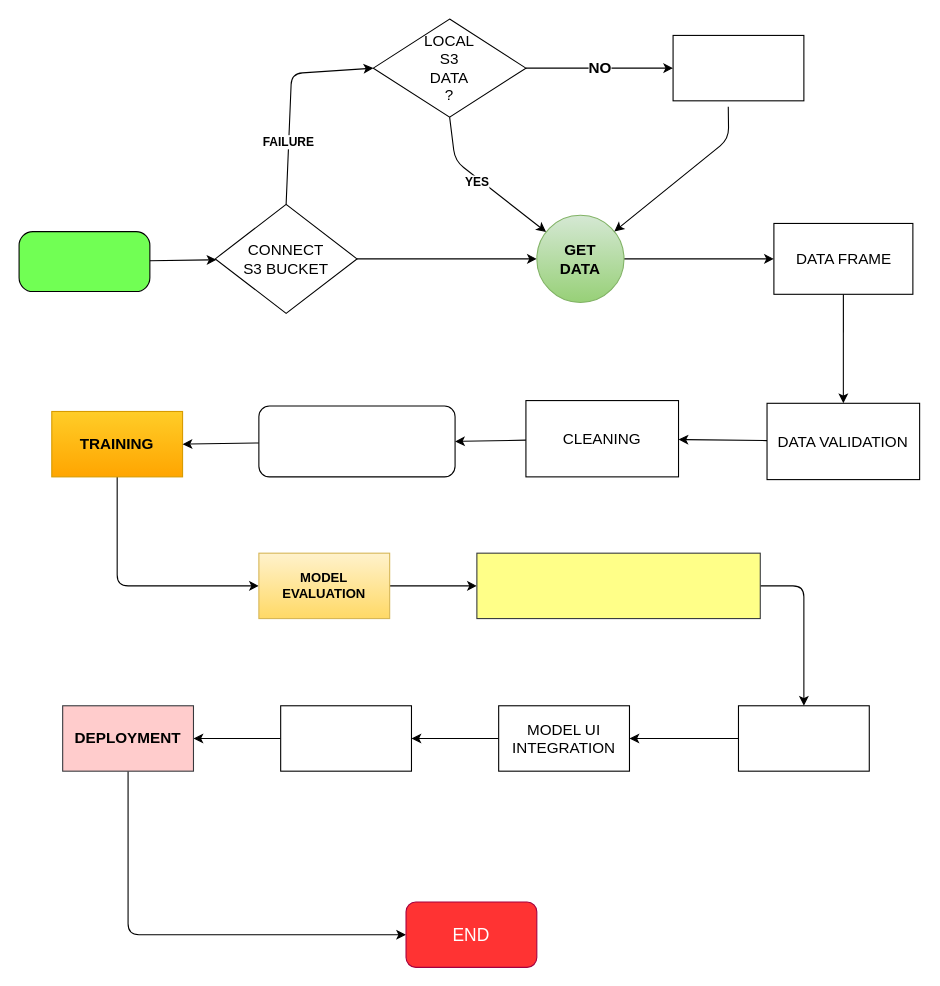
The diagram is 940 pixels wide and 986 high, and some of its shapes have lost their labels. Here are the shapes that lost their labels. From the top down, the centre of each, then its label:
At (738,67): "GET BASE DATA".
At (84,261): "START".
At (356,441): "EDA REPORT, DRIFT REPORT PROFILING REPORT".
At (618,585): "MODEL PERFORMANCE REPORT".
At (345,738): "PUSH T CLOUD".
At (803,738): "MDOEL PUSH".
